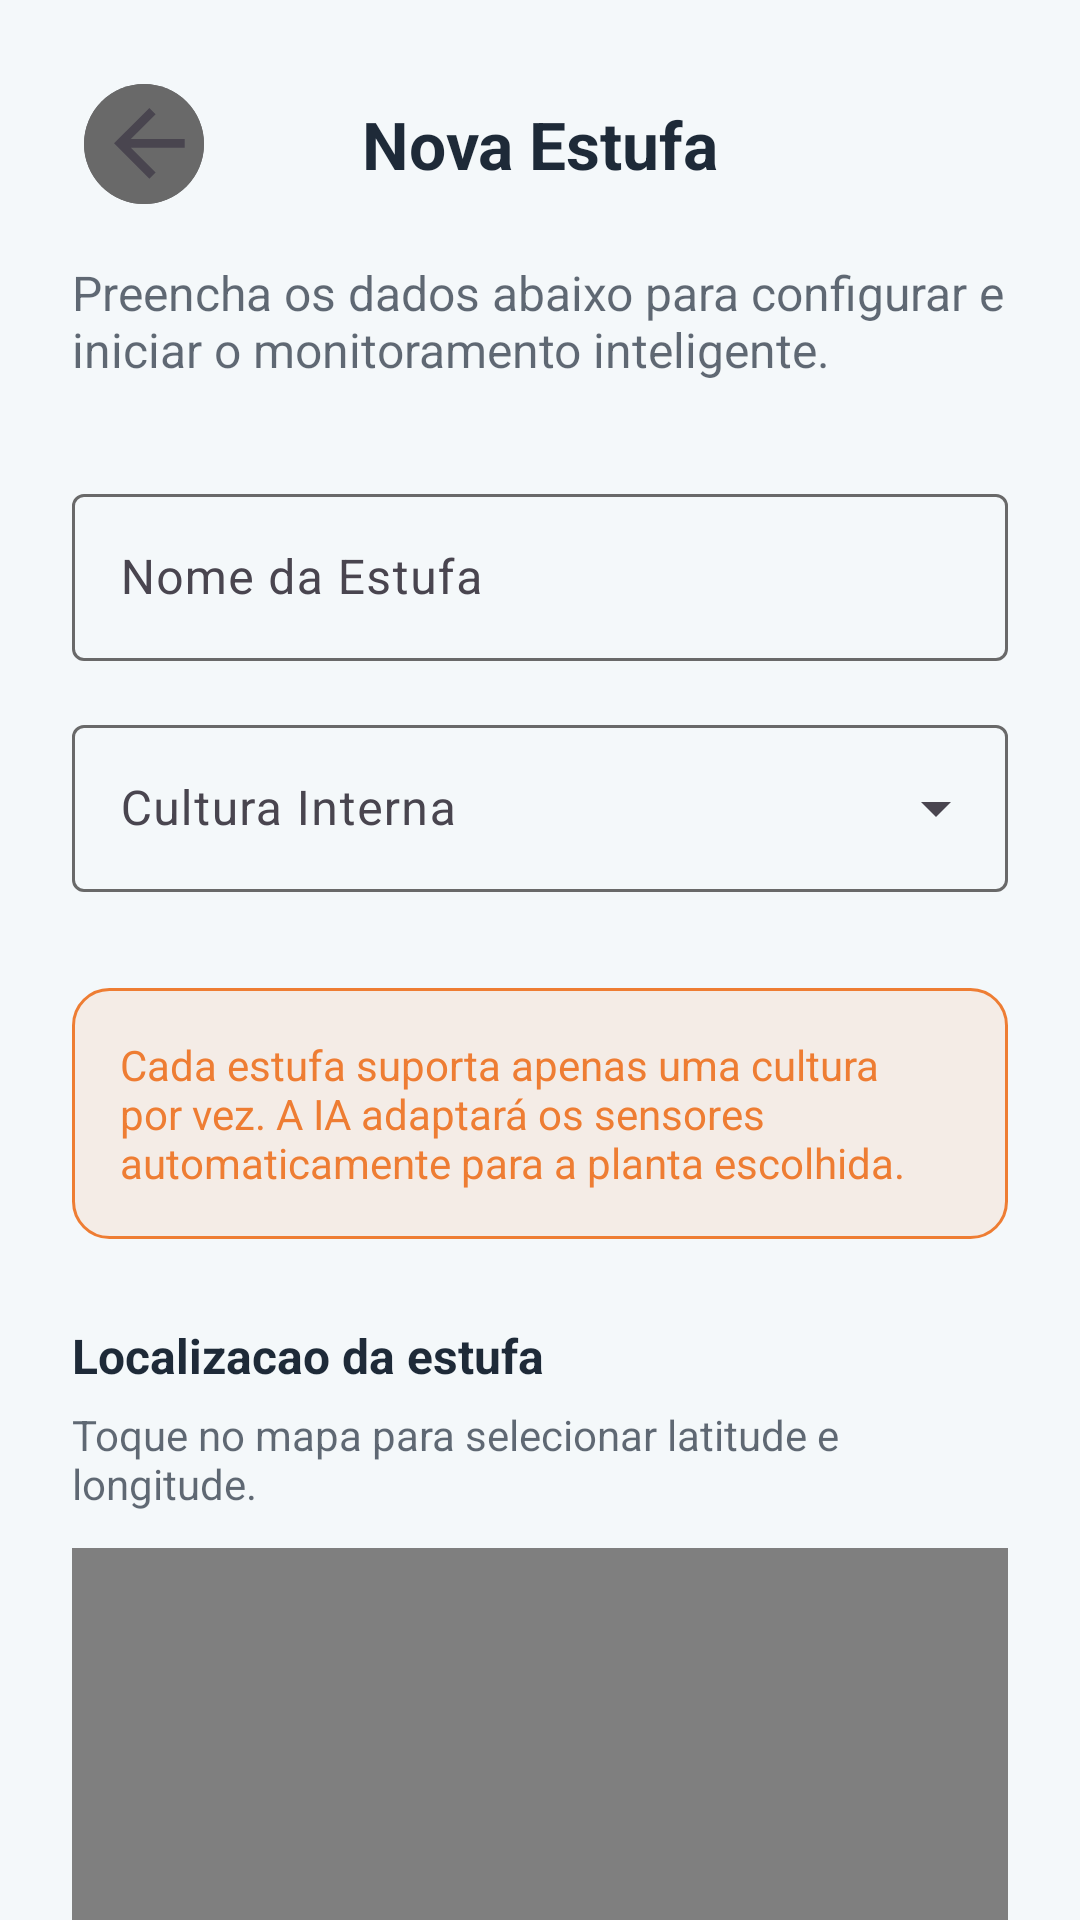

Point at icon controls on the screen. Image size 1080w x 1920h, points as point (x, y).
arrow back: point (144, 144)
